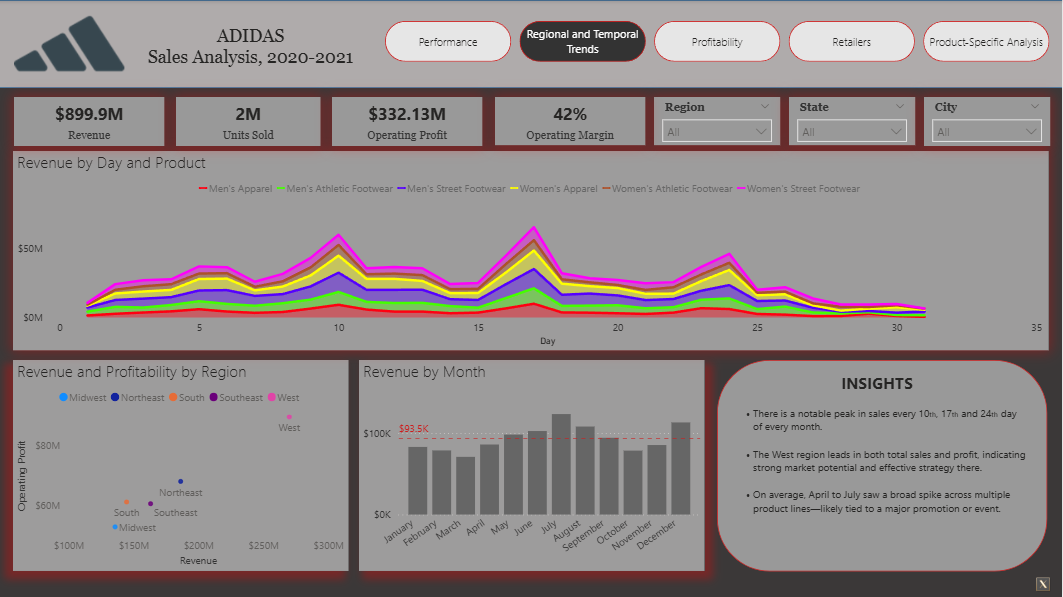

This screenshot's page, from the dashboard's own definition file:
{"tool":"powerbi","page":{"name":"Regional and Temporal Trends","canvas":[1280,720],"ordinal":1},"visuals":[{"type":"textbox","box":[168.6,25.3,268.5,61.4],"z":0},{"type":"slicer","fields":{"Values":["Data.Region"]},"box":[788,116.5,151.8,58.3],"z":0,"group":"g1"},{"type":"pageNavigator","box":[464.4,25.4,800.3,49.5],"z":1000},{"type":"slicer","fields":{"Values":["Data.State"]},"box":[950.4,116.5,151.8,58.3],"z":1000,"group":"g1"},{"type":"slicer","fields":{"Values":["Data.City"]},"box":[1113.4,116.5,151.9,59],"z":2000,"group":"g1"},{"type":"shape","box":[864.5,433.6,397.8,254.7],"z":2000,"group":"g2"},{"type":"card","fields":{"Values":["Sum(Data.Total Sales)"]},"box":[17.8,116.7,181.1,58.9],"z":3000,"group":"g1"},{"type":"clusteredColumnChart","title":"Revenue by Month","fields":{"Y":["Avg(Data.Total Sales)"],"Category":["Data.Invoice Date.Variation.Date Hierarchy.Month"]},"box":[433.6,433.6,416.2,254.3],"z":3000},{"type":"card","fields":{"Values":["Sum(Data.Units Sold)"]},"box":[213.4,116.7,174.4,58.9],"z":4000,"group":"g1"},{"type":"scatterChart","title":"Revenue and Profitability by Region","fields":{"Series":["Data.Region"],"X":["Sum(Data.Total Sales)"],"Y":["Sum(Data.Operating Profit)"]},"box":[17.4,433.6,404.2,254.3],"z":4000},{"type":"card","fields":{"Values":["Sum(Data.Operating Profit)"]},"box":[401.1,116.7,181.1,58.9],"z":5000,"group":"g1"},{"type":"stackedAreaChart","fields":{"Category":["Data.Invoice Date.Variation.Date Hierarchy.Year","Data.Invoice Date.Variation.Date Hierarchy.Quarter","Data.Invoice Date.Variation.Date Hierarchy.Month","Data.Invoice Date.Variation.Date Hierarchy.Day"],"Y":["Sum(Data.Total Sales)"],"Series":["Data.Product"]},"box":[17.4,182,1247.3,239.6],"z":5000},{"type":"textbox","box":[948.1,443.5,219.5,41.5],"z":5000,"group":"g2"},{"type":"group","id":"g1","title":"Group 2","box":[17.8,116.5,1247.5,59.1],"z":6000},{"type":"card","fields":{"Values":["Avg(Data.Operating Margin)"]},"box":[596.3,116.5,180.9,58.3],"z":6000,"group":"g1"},{"type":"group","id":"g2","title":"Group 1","box":[864.5,433.6,397.8,254.7],"z":7000},{"type":"image","box":[1233.9,687.9,45.5,32.1],"z":7001},{"type":"textbox","box":[885.2,484.3,356.3,173.1],"z":12000,"group":"g2"}]}

Visuals, with their boxes in screenshot pixels (x1, y1, x2, y2), scaled from the page's 1280x720 canvas onto the 1063x597 screenshot:
textbox: bbox=[140, 21, 363, 72]
slicer - Data.Region: bbox=[654, 97, 780, 145]
pageNavigator: bbox=[386, 21, 1050, 62]
slicer - Data.State: bbox=[789, 97, 915, 145]
slicer - Data.City: bbox=[925, 97, 1051, 146]
shape: bbox=[718, 360, 1048, 571]
card - Sum(Data.Total Sales): bbox=[15, 97, 165, 146]
"Revenue by Month" clusteredColumnChart: bbox=[360, 360, 706, 570]
card - Sum(Data.Units Sold): bbox=[177, 97, 322, 146]
"Revenue and Profitability by Region" scatterChart: bbox=[14, 360, 350, 570]
card - Sum(Data.Operating Profit): bbox=[333, 97, 483, 146]
stackedAreaChart - Data.Invoice Date.Variation.Date Hierarchy.Year x Data.Invoice Date.Variation.Date Hierarchy.Quarter: bbox=[14, 151, 1050, 350]
textbox: bbox=[787, 368, 970, 402]
"Group 2" group: bbox=[15, 97, 1051, 146]
card - Avg(Data.Operating Margin): bbox=[495, 97, 645, 145]
"Group 1" group: bbox=[718, 360, 1048, 571]
image: bbox=[1025, 570, 1062, 596]
textbox: bbox=[735, 402, 1031, 545]
